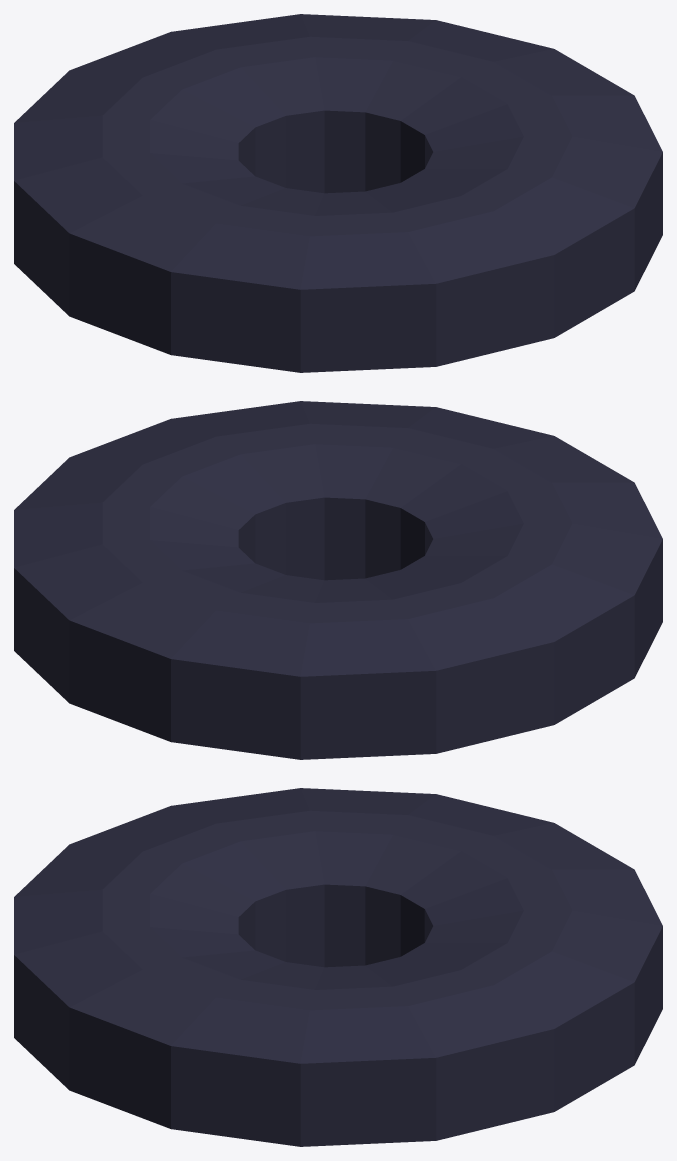
File: tire.glb
3 views of the same model, one above another, from view 1: azimuth 30°, elevation 25°; view 2: azimuth 150°, elevation 25°; view 3: azimuth 270°, elevation 25° (orthographic).
Visible parts, largest first — view 1: Cylinder; view 2: Cylinder; view 3: Cylinder.
Boxes of the visible parts, x1,y1,x2,y2 form: Cylinder: (14,14,662,372); Cylinder: (14,401,662,759); Cylinder: (14,788,662,1146).
Size of the model in its own units: 1.99 by 0.3829 by 1.98.
